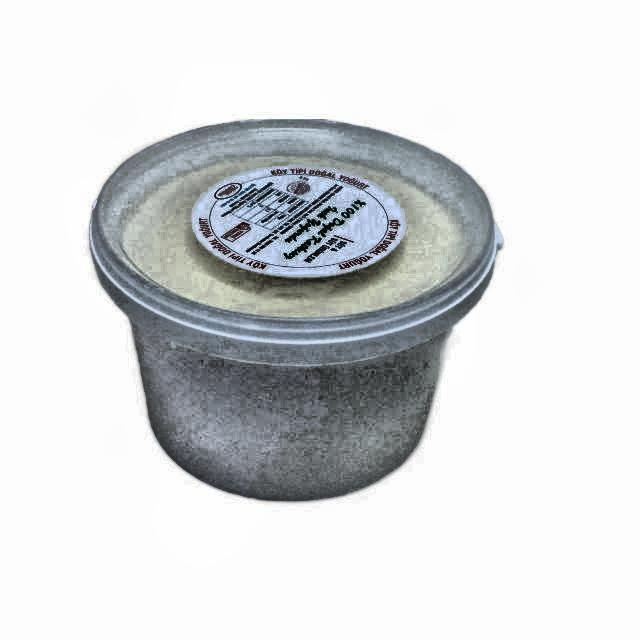plastic: (87, 117, 503, 505)
